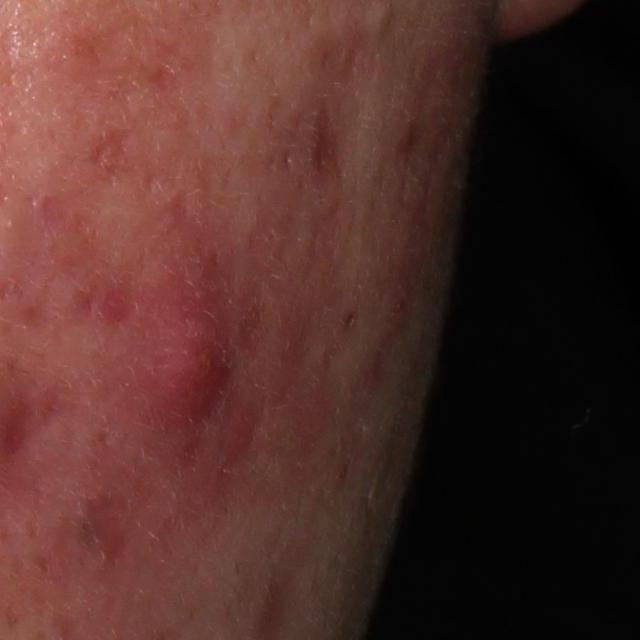atrophic_scar: (82, 123, 129, 175), (311, 105, 338, 182)
nodule: (130, 273, 244, 436)
